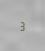three: (19, 19, 23, 31)
